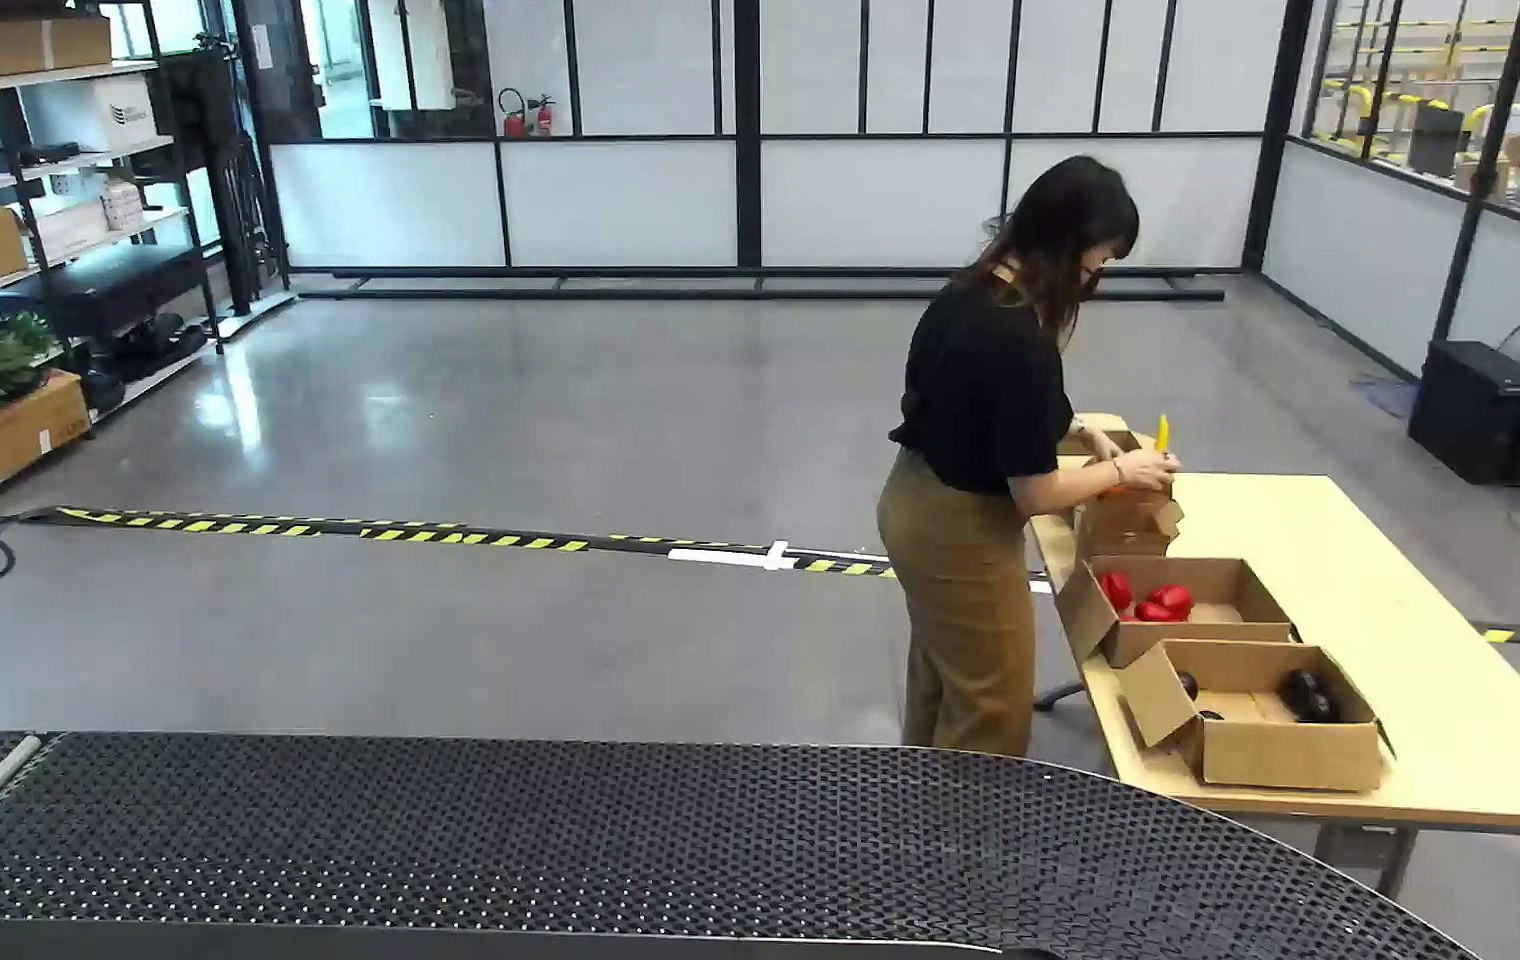Main droite: (1115, 448, 1180, 494)
